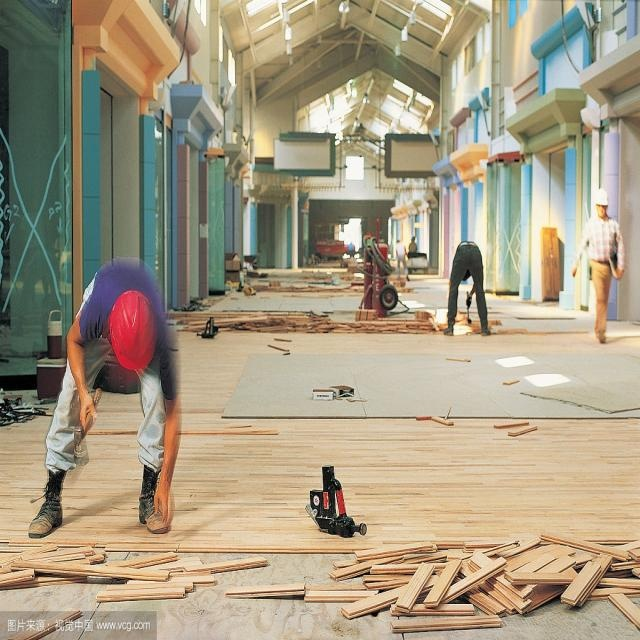Con_Casco: (108, 288, 158, 372)
Sin_Chaleco: (587, 214, 621, 276)
